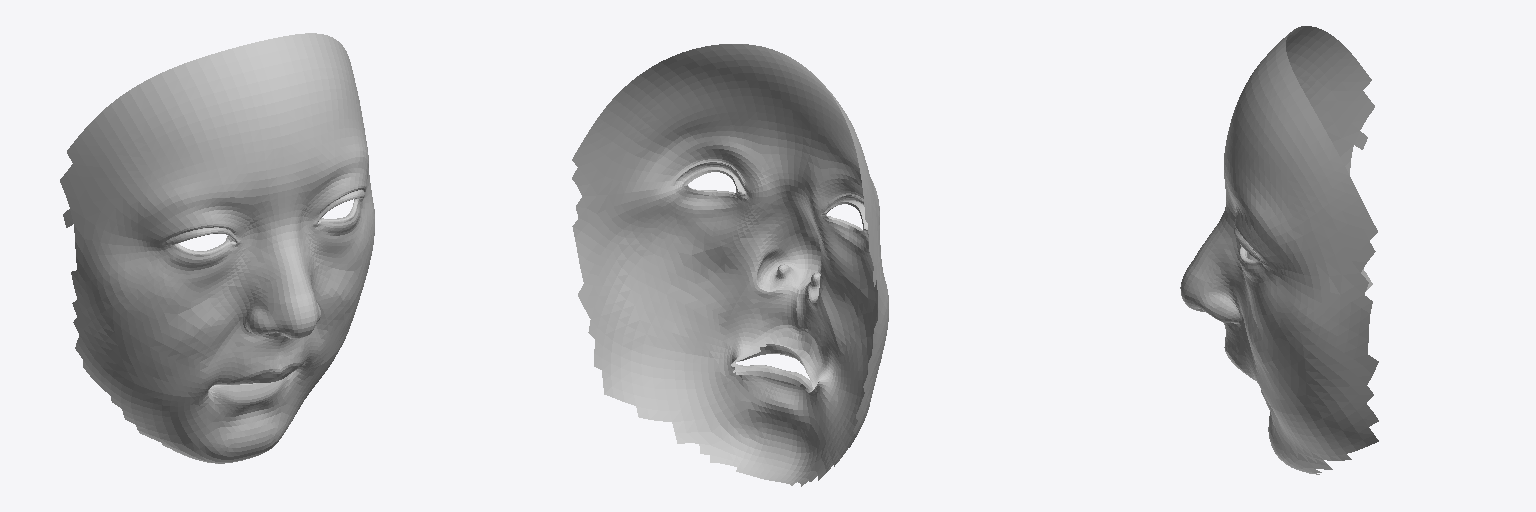
File: out_mean.obj
The picture shows the model from 3 angles: view 1: azimuth 30°, elevation 25°; view 2: azimuth 150°, elevation 25°; view 3: azimuth 270°, elevation 25°; orthographic projection.
Bounding box in the file's own units: 13.55 × 18.32 × 7.84.